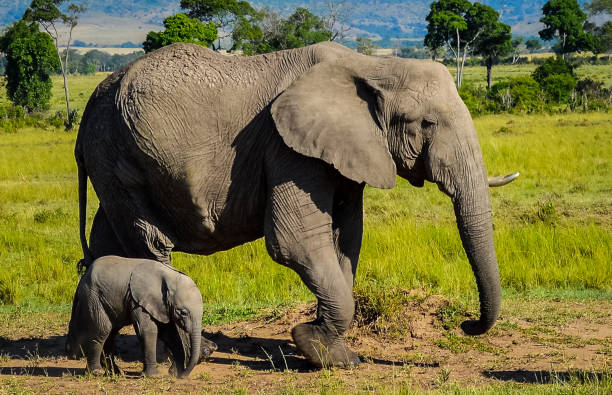africanelephant: (300, 77, 513, 213)
